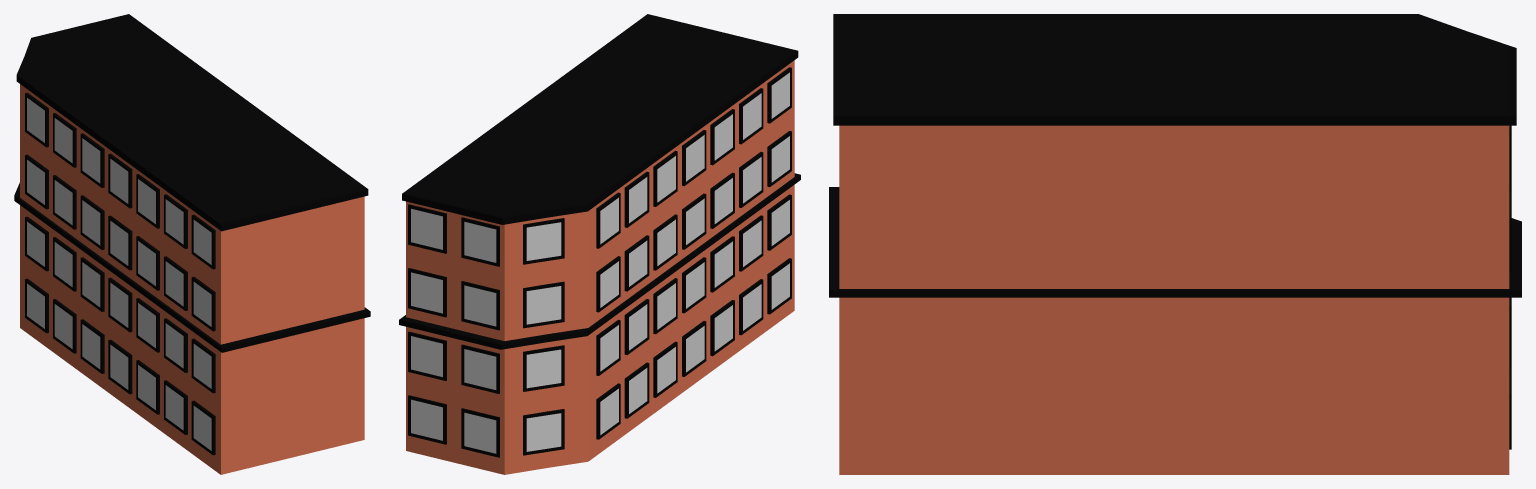
File: EdificioApartamento3.fbx
The picture shows the model from 3 angles, left to right: view 1: azimuth 30°, elevation 25°; view 2: azimuth 150°, elevation 25°; view 3: azimuth 270°, elevation 25°; orthographic projection. The views are drawn at different scales.
Parts seen in each view (by area): view 1: Cube.010, Cube.011; view 2: Cube.010, Cube.011, Windows, Window Base.001; view 3: Cube.010, Windows.
Boxes of the visible parts, box(x1,y1,x2,y2) form: Cube.010: box(14, 14, 370, 474); Cube.011: box(25, 92, 215, 455); Cube.010: box(399, 14, 800, 474); Cube.011: box(596, 67, 791, 439); Windows: box(408, 204, 499, 457); Window Base.001: box(523, 218, 564, 455); Cube.010: box(829, 14, 1521, 474); Windows: box(1509, 125, 1511, 449).
Size of the model in its own units: 124 by 200 by 349.
